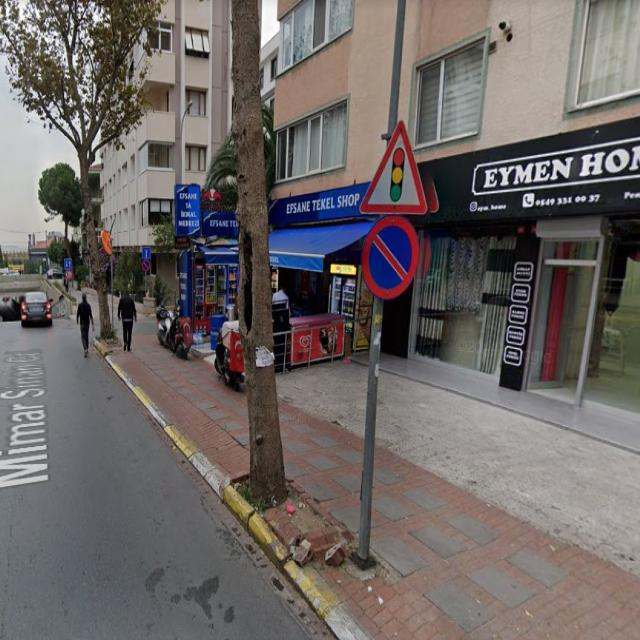parkyasak: (362, 215, 420, 298), (142, 259, 150, 272)
